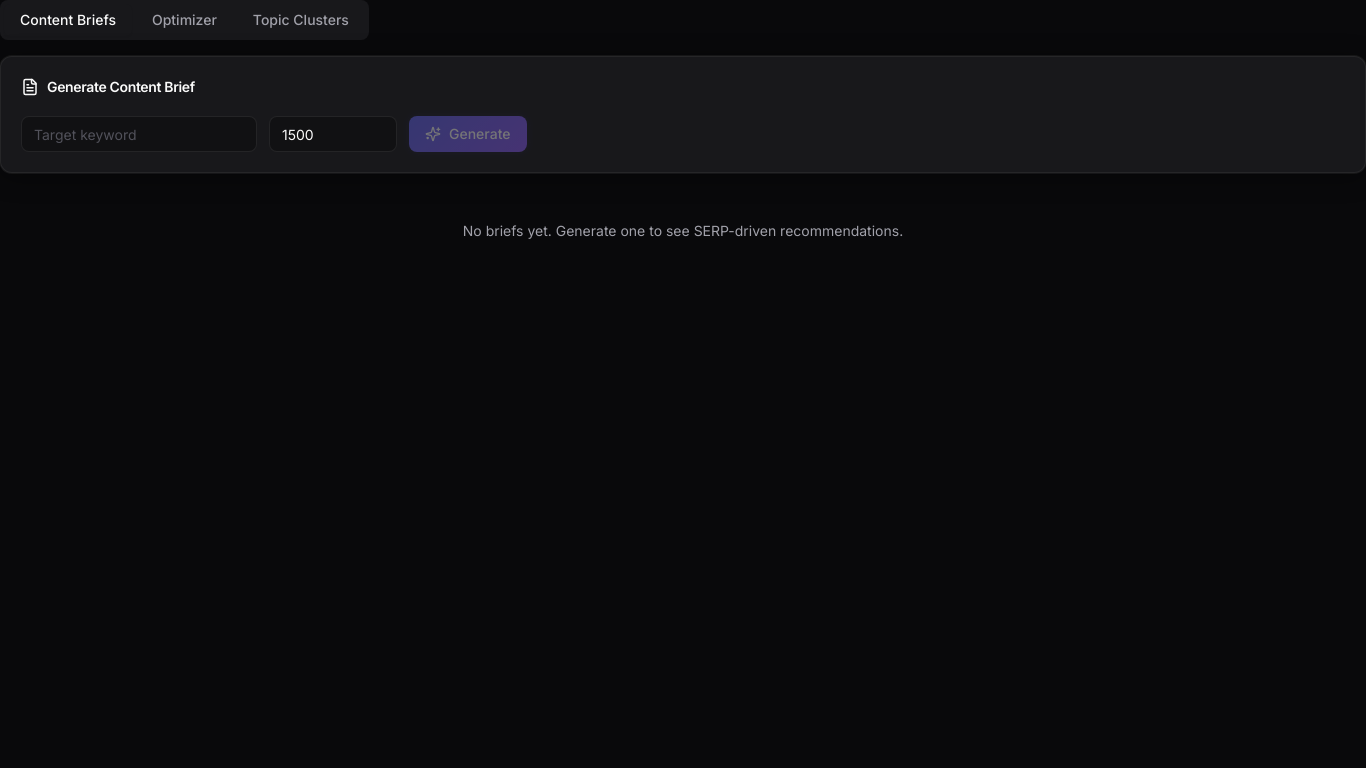
it: ContentStudio › renders optimizer score result
Click the tab "Optimizer".
click(184, 20)  # box [136,4,233,36]
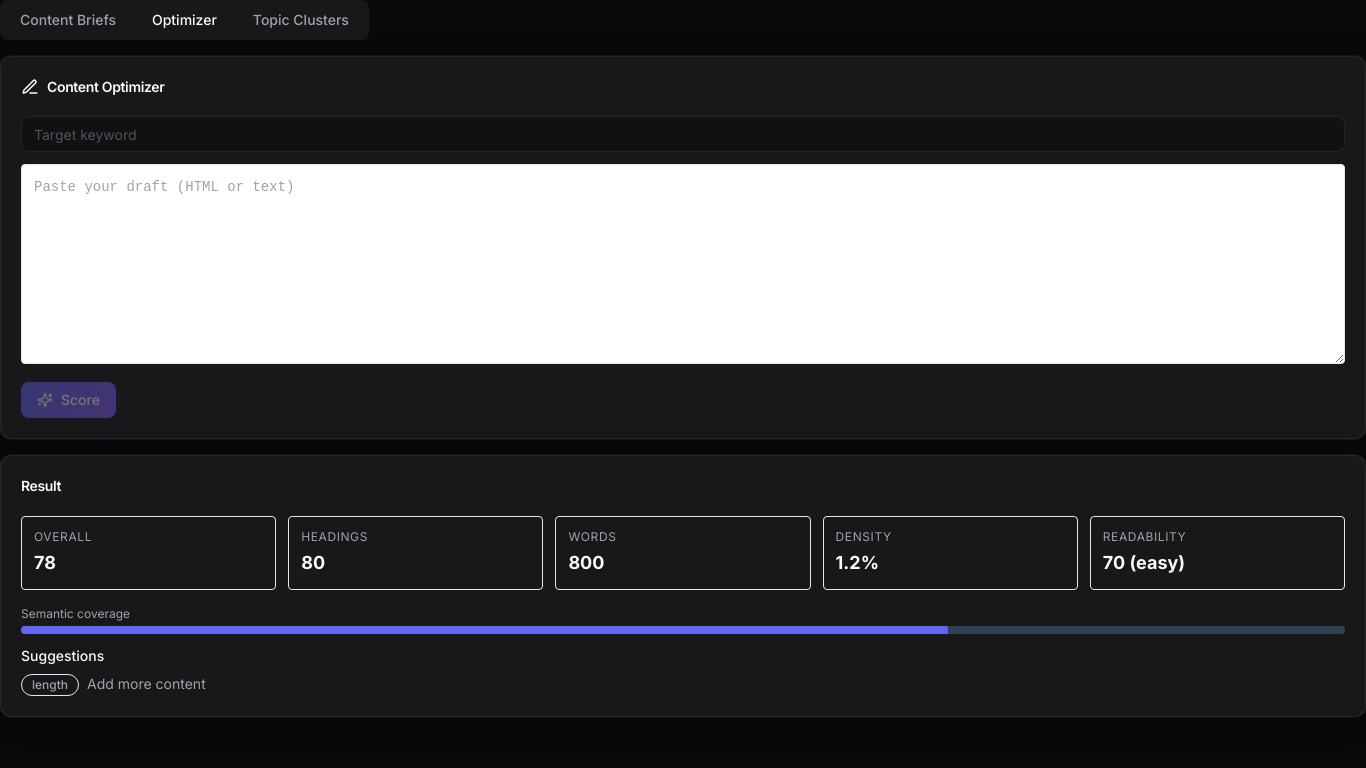
Expected: the heading "Result" is shown, [21,477,61,494]
Expected: the text "78" is shown, [34,552,56,572]
Expected: the list item "Add more content" is shown, [87,674,206,692]
